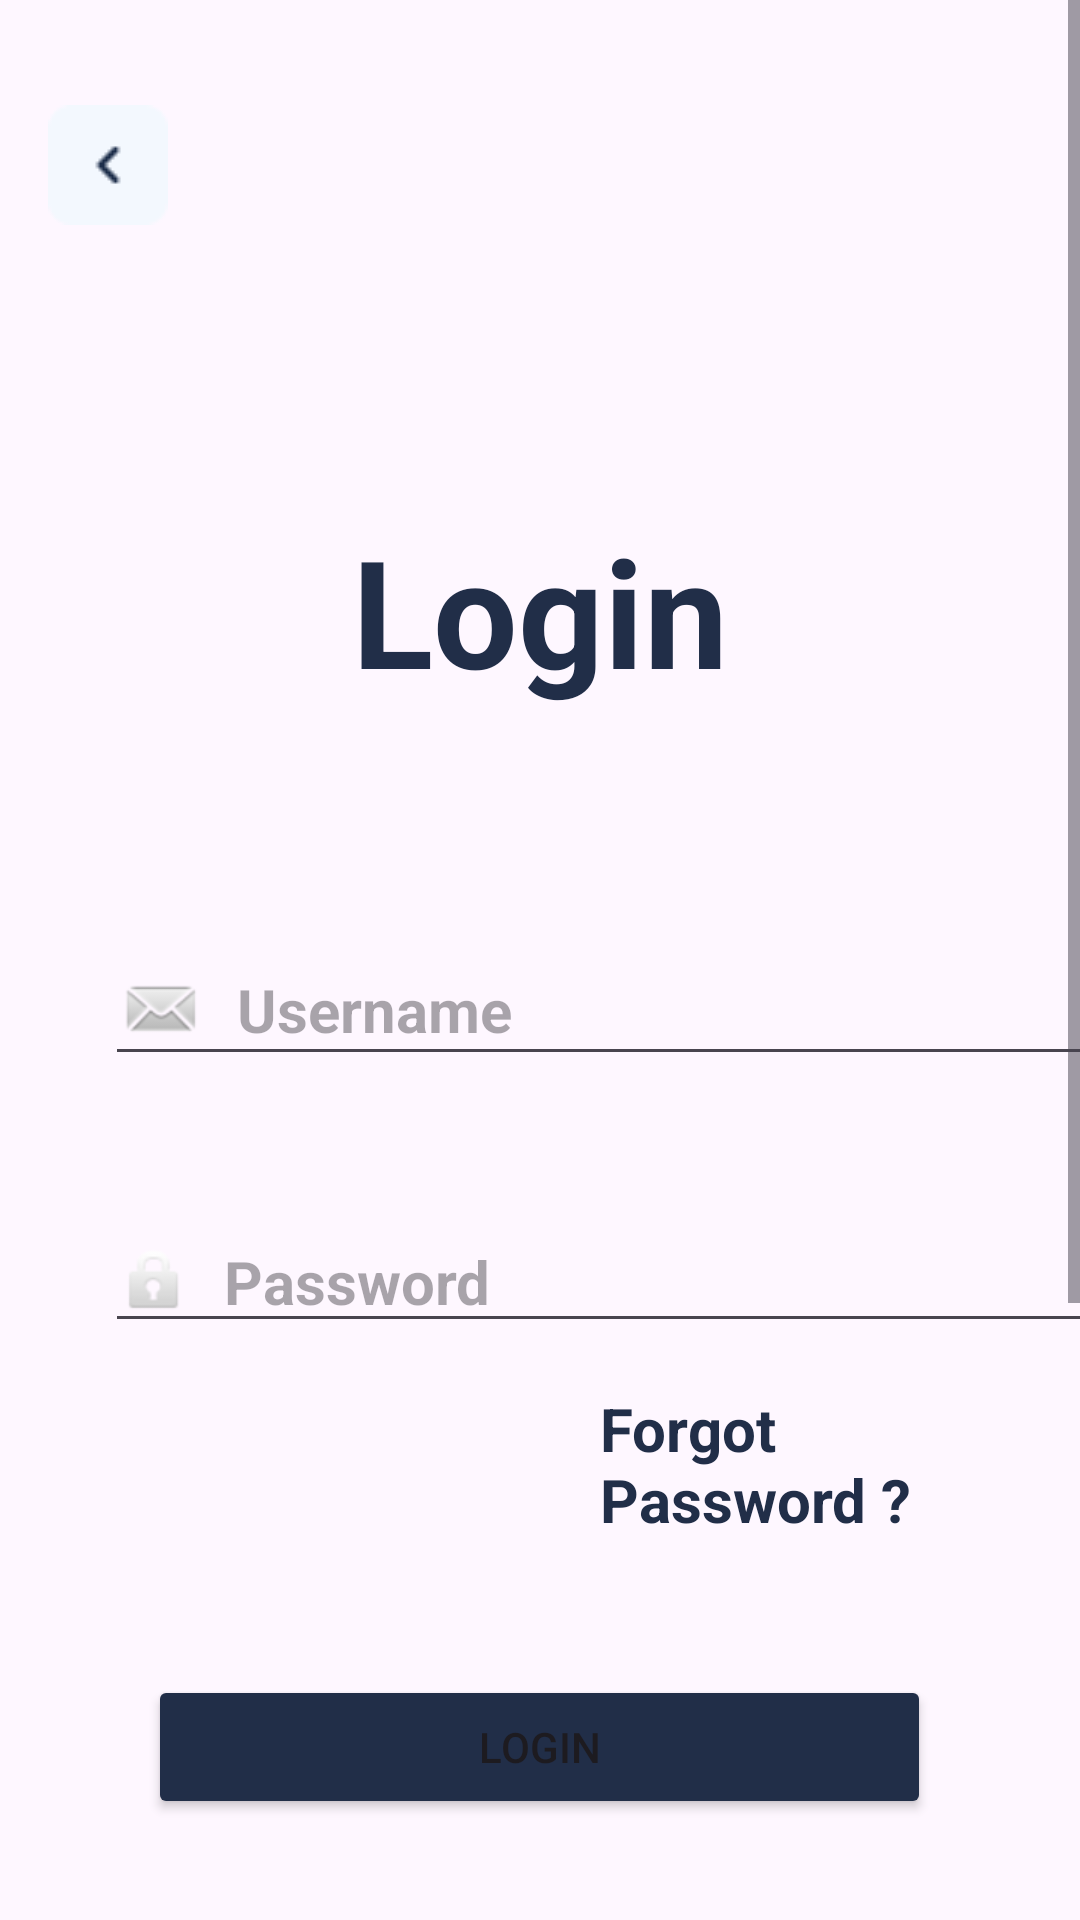

Named icons in this screenshot (1080×1920) and their centers, (x=x, y=y):
Back Button: (x=108, y=165)
